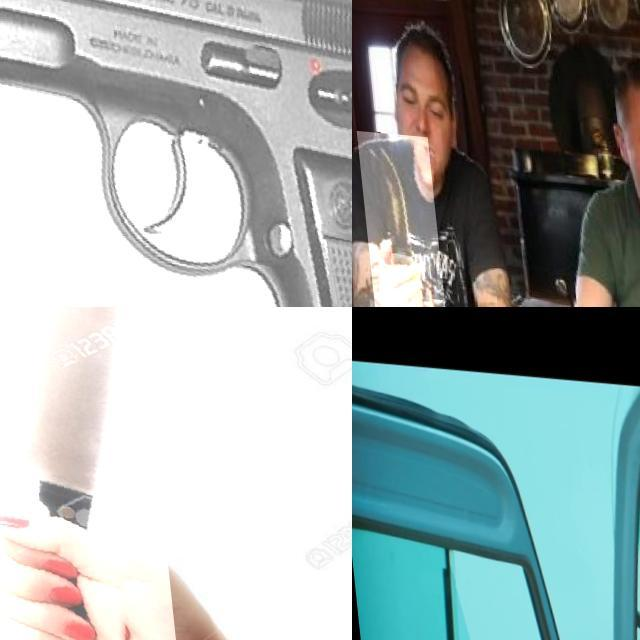-: (0, 307, 166, 640), (352, 128, 438, 307)
gun-knife-thesis - v11 Yolov5 augmented: (0, 0, 352, 307)
